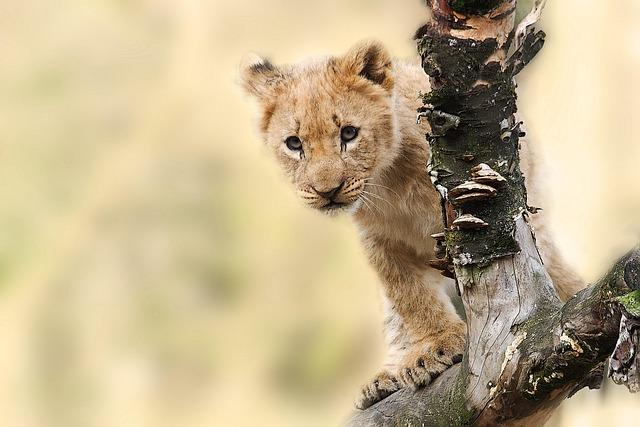Non_Gorille: (2, 3, 640, 427)
